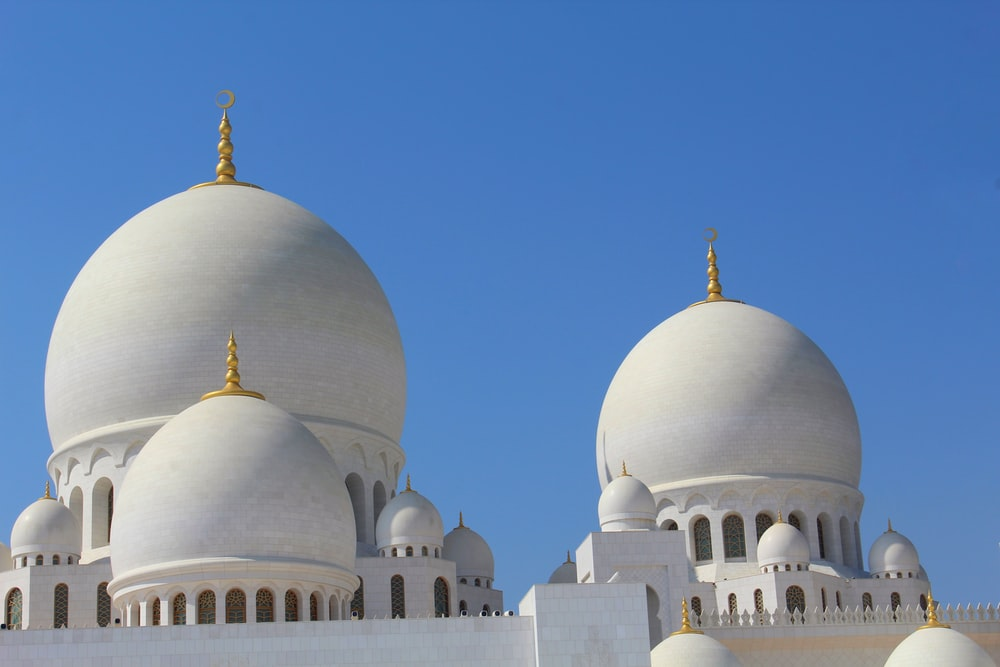Mosque: (15, 101, 973, 654)
